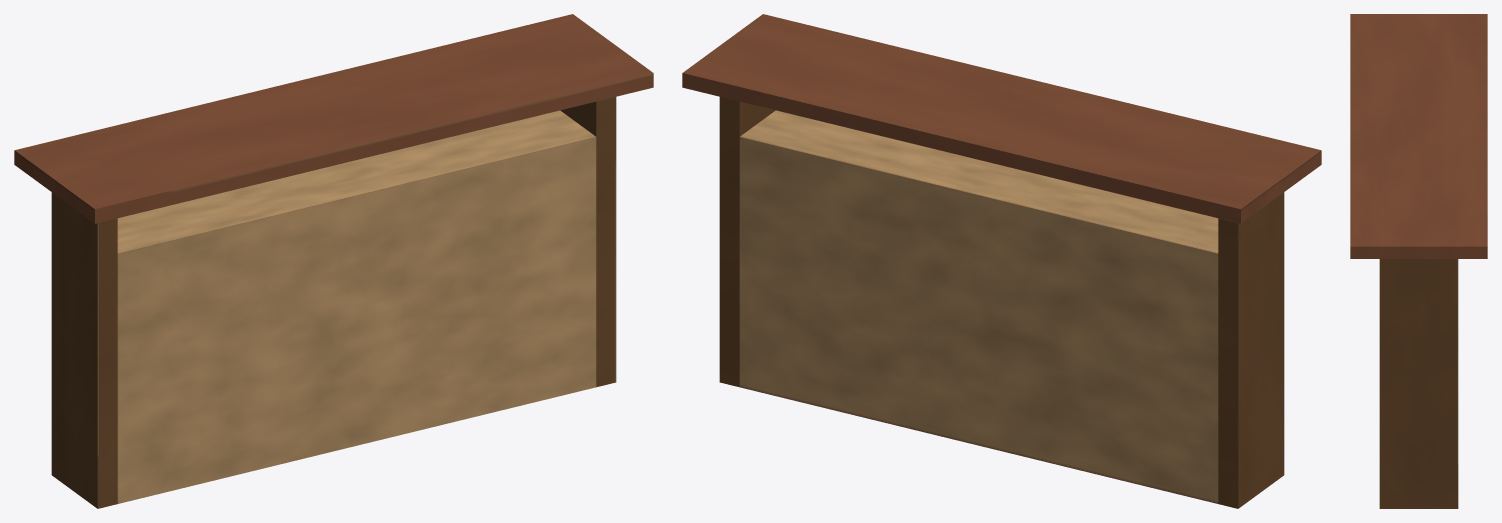
File: drivi_12825a67.glb
3 renders of one model, left to right at view 1: azimuth 30°, elevation 25°; view 2: azimuth 150°, elevation 25°; view 3: azimuth 270°, elevation 25°, orthographic. The views are drawn at different scales.
Parts seen in each view (by area): view 1: dum; view 2: dum; view 3: dum.
Boxes of the visible parts, left/top/right/bottom form: dum: left=14, top=14, right=653, bottom=508; dum: left=682, top=14, right=1321, bottom=508; dum: left=1350, top=14, right=1487, bottom=508.
Size of the model in its own units: 2.79 by 1.52 by 0.6983.
Materials: 1 (1 with a texture image).
